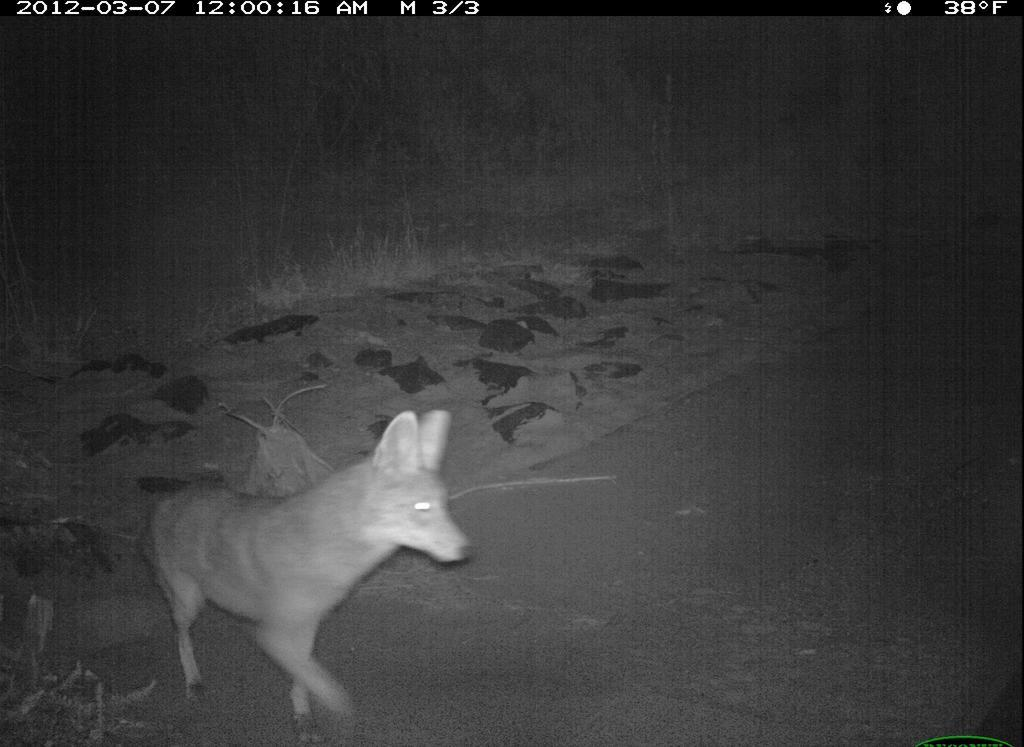coyote: (143, 408, 492, 734)
